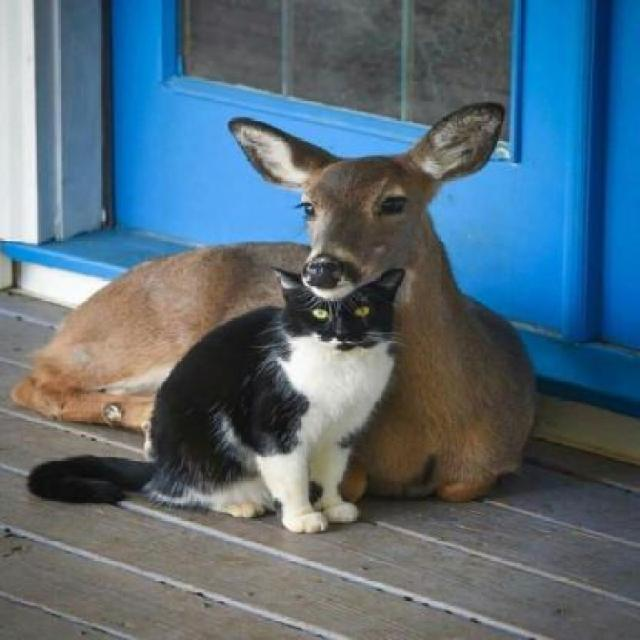cat: (138, 275, 427, 527)
